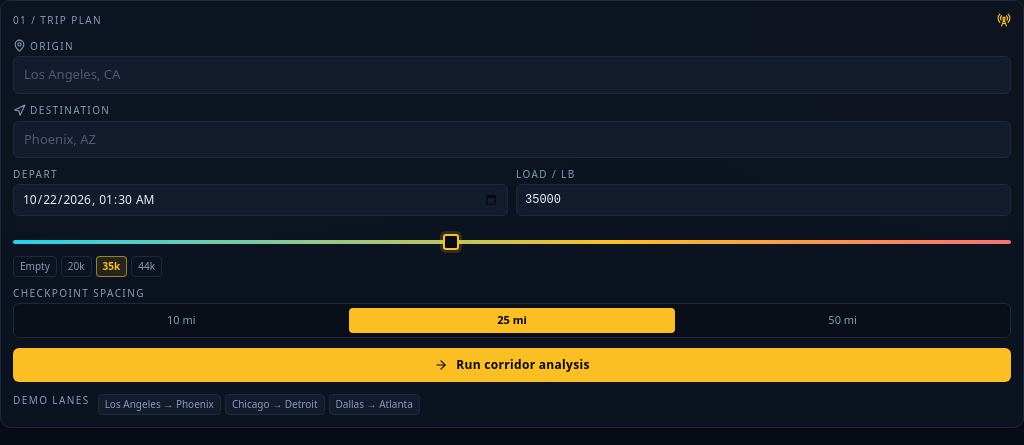
Test: PlanForm › fills a demo lane
Click the button "Los Angeles → Phoenix" at coordinates (159, 404), box [98,394,221,414]
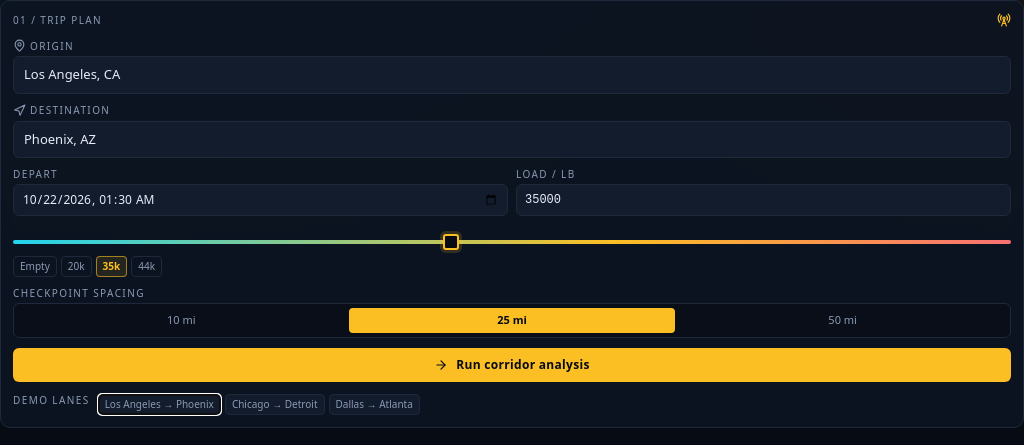
Result: the dropdown labelled "Origin" holds "Los Angeles, CA" at [13,56,1011,94]
Result: the dropdown labelled "Destination" holds "Phoenix, AZ" at [13,120,1011,158]
